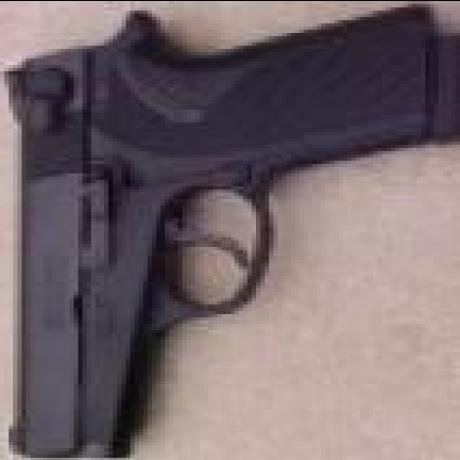weapon: (10, 13, 454, 452)
